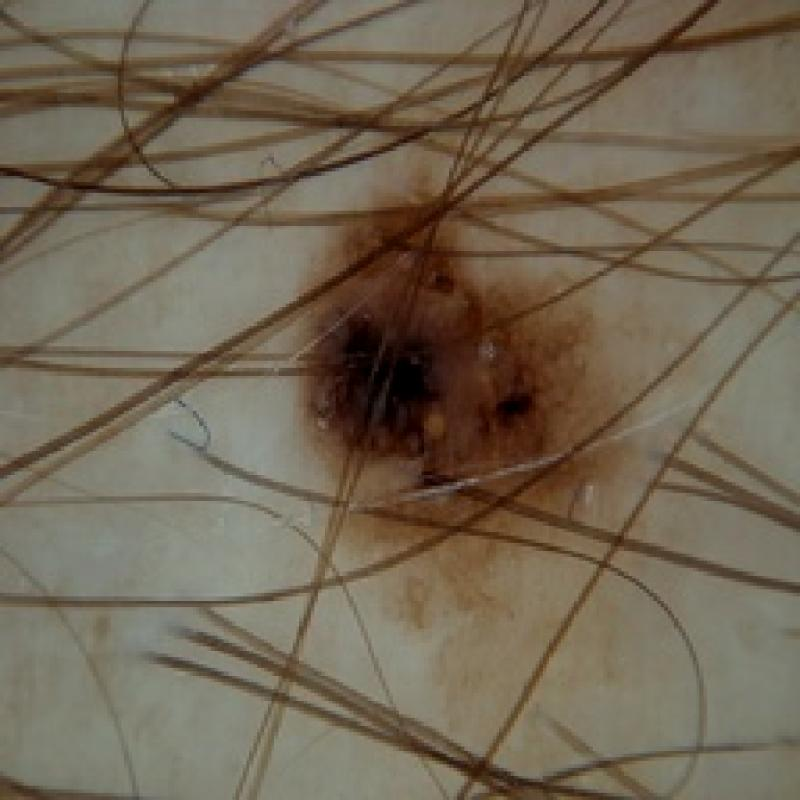malignant: (198, 174, 644, 569)
